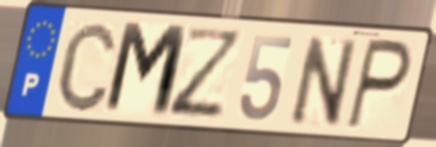5: (237, 31, 296, 123)
C: (53, 18, 120, 115)
M: (99, 19, 192, 122)
N: (287, 33, 360, 128)
P: (342, 35, 415, 134)
Z: (165, 24, 247, 120)
